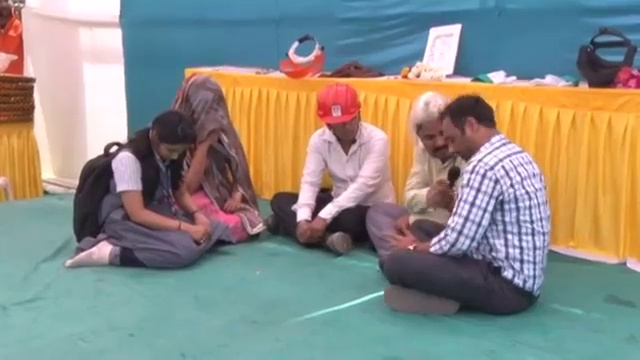helmet: (312, 91, 368, 130)
helmet_off: (432, 94, 499, 161), (406, 88, 462, 166), (177, 78, 230, 141), (140, 112, 198, 168)
helmet_on: (312, 85, 368, 147)
person: (377, 84, 554, 320), (263, 77, 416, 261), (61, 108, 233, 271), (159, 66, 267, 247), (365, 89, 465, 260)
